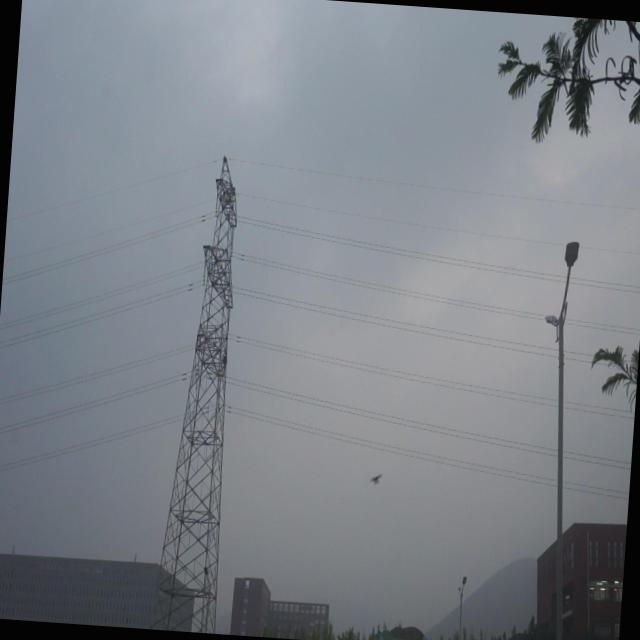drone: (367, 468, 384, 491)
